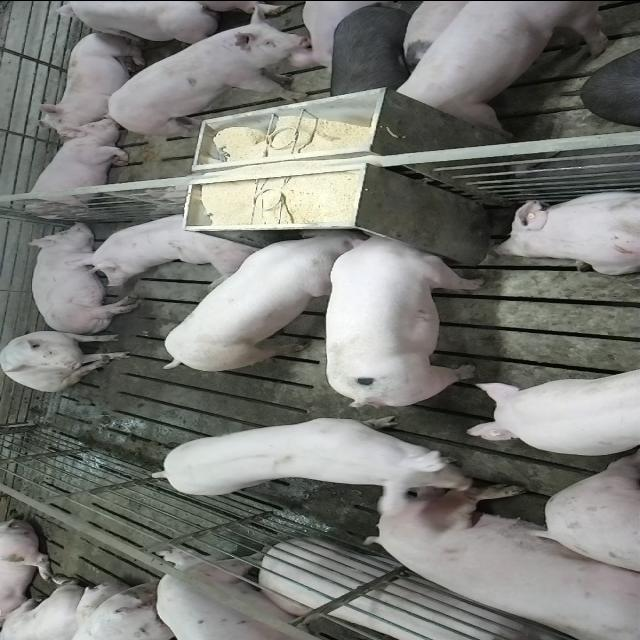Feeding: (160, 228, 366, 376), (324, 231, 484, 411)
Lateral_lying: (260, 540, 606, 640), (24, 220, 140, 334)
Sitting: (2, 328, 134, 391)
Standing: (392, 2, 626, 134), (147, 416, 477, 506), (110, 17, 326, 136), (158, 547, 344, 640), (466, 356, 640, 452), (326, 5, 420, 104)
Sternal_lying: (73, 207, 259, 285), (490, 188, 640, 274), (36, 30, 150, 134), (18, 124, 132, 216)
